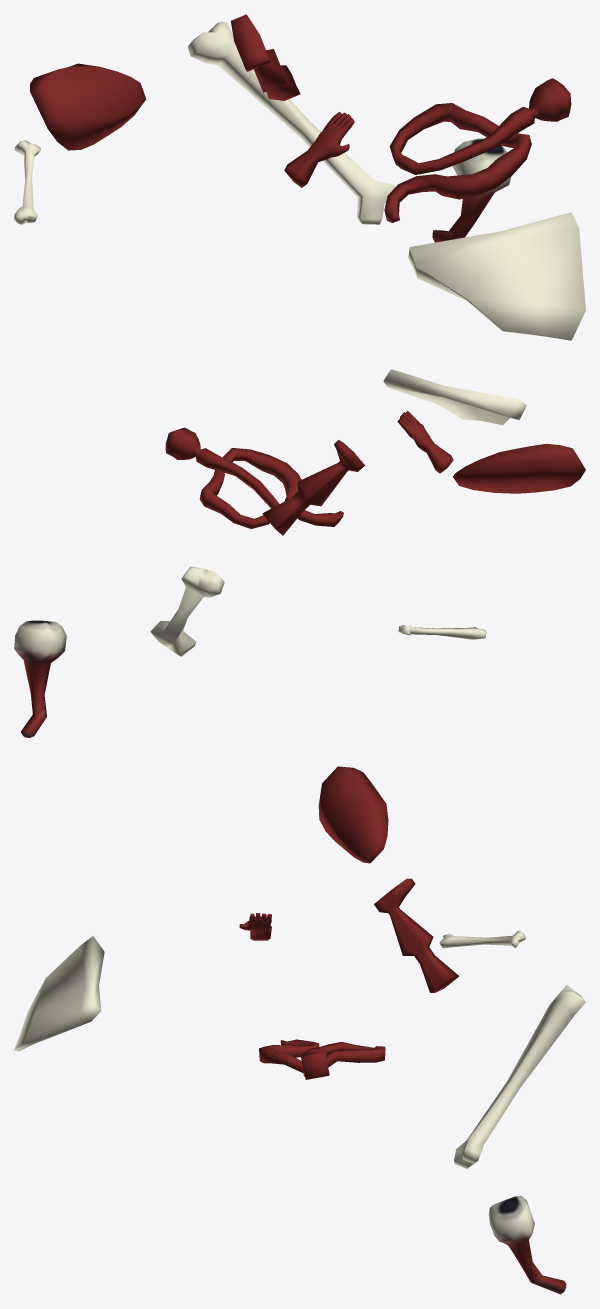
File: BlazarInsides.fbx
3 renders of one model, top to bottom at view 1: azimuth 30°, elevation 25°; view 2: azimuth 150°, elevation 25°; view 3: azimuth 270°, elevation 25°, orthographic. The views are drawn at different scales.
Visible parts, largest first — view 1: Cube.001, Cube.004, Cube.003, Cube, Cube.011, Cube.002, Cube.010, Cube.005; view 2: Cube.004, Cube.003, Cube.001, Cube.002, Cube.011, Cube, Cube.010, Cube.005; view 3: Cube.001, Cube.003, Cube, Cube.004, Cube.011, Cube.002, Cube.005.
Part boxes in pixels (left/top/right/bottom): Cube.001: left=408, top=212, right=585, bottom=340; Cube.004: left=384, top=78, right=571, bottom=222; Cube.003: left=30, top=63, right=146, bottom=150; Cube: left=188, top=21, right=395, bottom=224; Cube.011: left=230, top=14, right=300, bottom=100; Cube.002: left=432, top=138, right=511, bottom=242; Cube.010: left=284, top=112, right=354, bottom=187; Cube.005: left=14, top=140, right=41, bottom=224; Cube.004: left=165, top=427, right=343, bottom=528; Cube.003: left=453, top=443, right=585, bottom=493; Cube.001: left=383, top=369, right=526, bottom=425; Cube.002: left=14, top=620, right=66, bottom=737; Cube.011: left=262, top=440, right=364, bottom=535; Cube: left=150, top=566, right=224, bottom=656; Cube.010: left=397, top=411, right=453, bottom=473; Cube.005: left=398, top=625, right=486, bottom=639; Cube.001: left=14, top=936, right=104, bottom=1051; Cube.003: left=318, top=766, right=388, bottom=863; Cube: left=454, top=985, right=585, bottom=1168; Cube.004: left=259, top=1039, right=385, bottom=1079; Cube.011: left=374, top=878, right=459, bottom=992; Cube.002: left=488, top=1195, right=566, bottom=1294; Cube.005: left=439, top=930, right=525, bottom=948.
Bounding box in the file's own units: 387 × 250 × 406.
